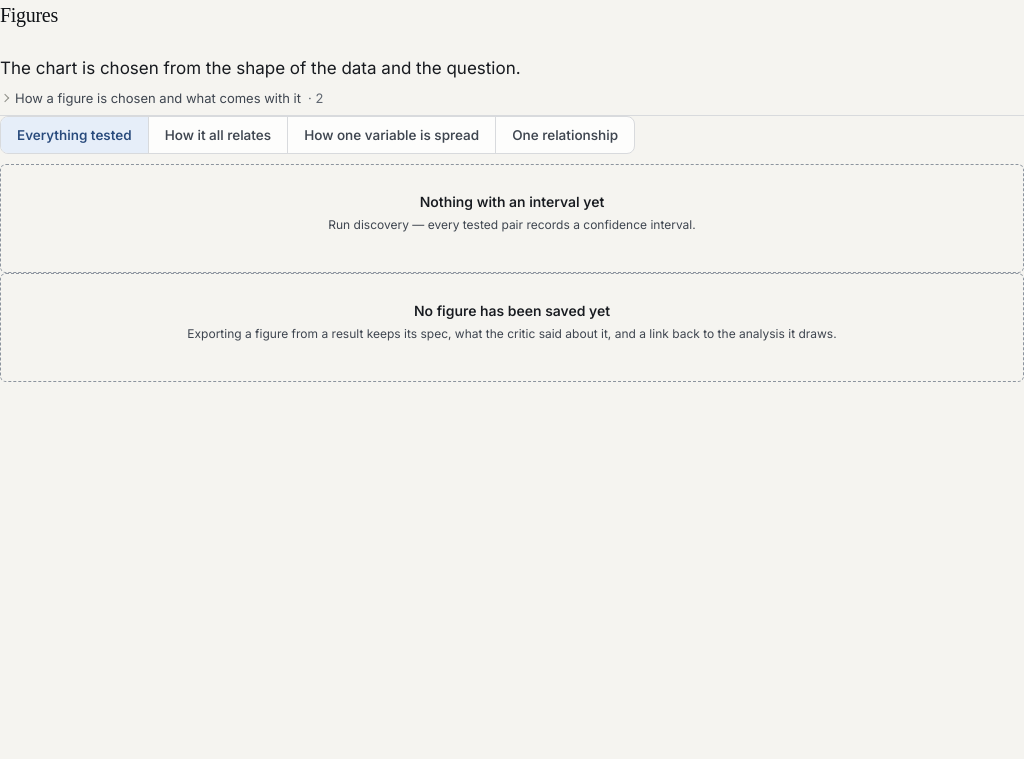
Test: the picker › offers a run that belongs to no connection
Click the button "One relationship" at (565, 135), box left=496, top=117, right=634, bottom=153
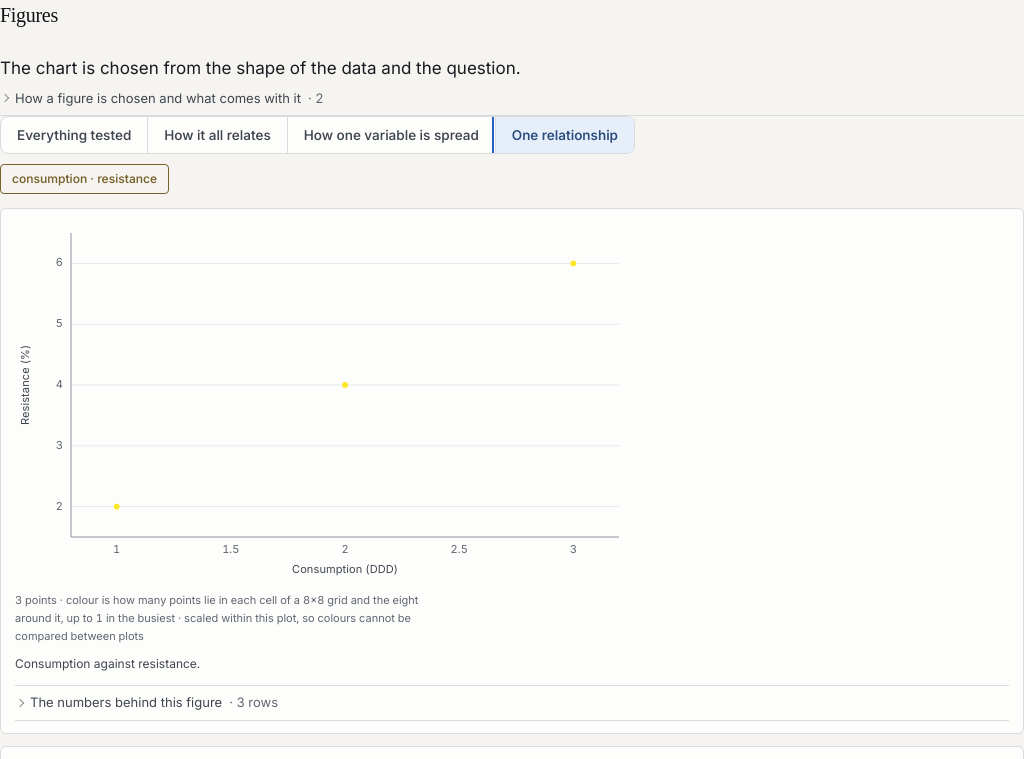
Now the button "consumption · resistance" is shown, box left=0, top=164, right=169, bottom=194
